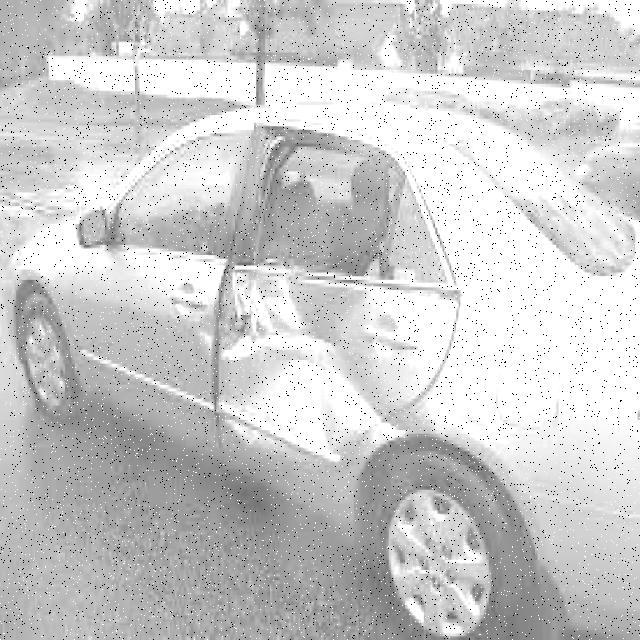car damage: (210, 115, 491, 482)
